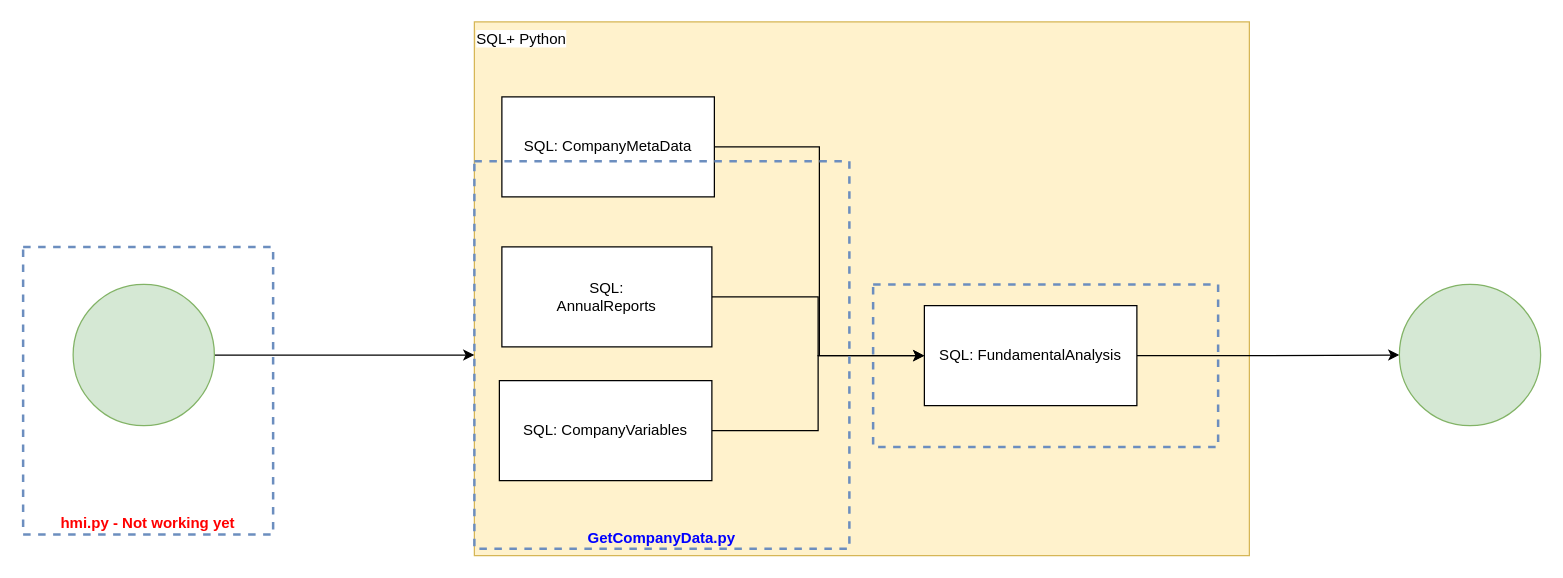
The diagram is 1563 pixels wide and 578 high, and some of its shapes have lost their labels. Here are the shapes that lost their labels. From the top down, the box of each, then its label:
(72, 283, 214, 426): HMI to introcude company ticker and sector
(871, 282, 1219, 448): FundamentalAnalysisCalculator.py
(1398, 283, 1541, 426): Data visualization: PowerBI? Excel? DTale? PandaGUI? QT? Dash?
